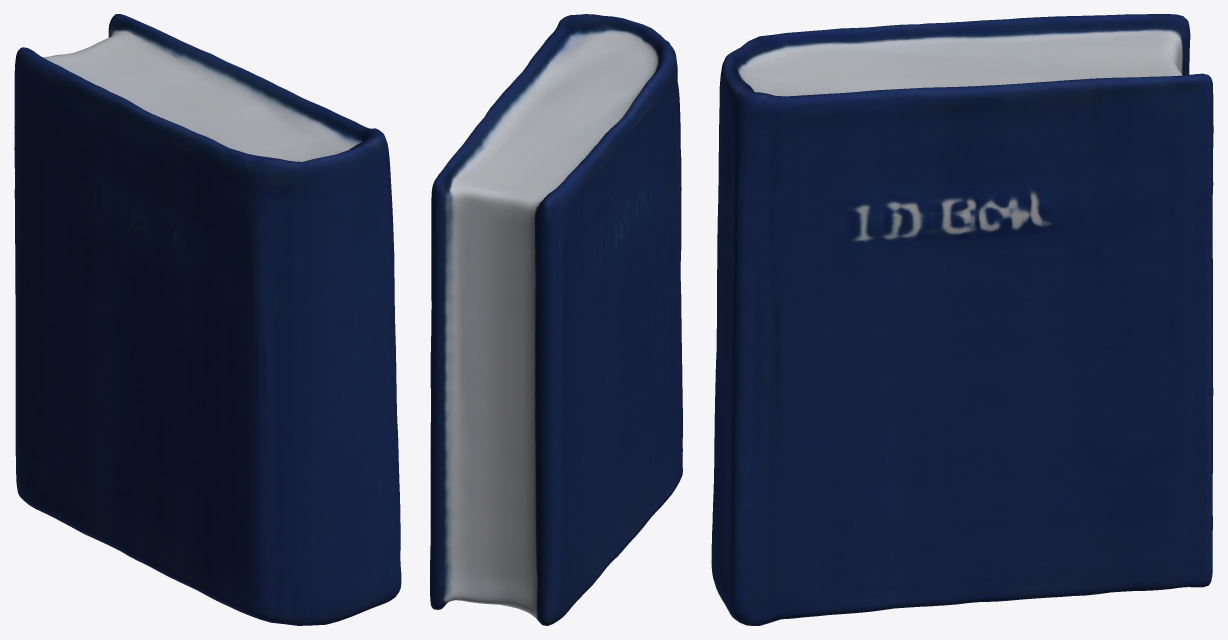
File: 26efe47cc652_blue_book__3d_asset.fbx
3 renders of one model, left to right at view 1: azimuth 30°, elevation 25°; view 2: azimuth 150°, elevation 25°; view 3: azimuth 270°, elevation 25°, orthographic. The views are drawn at different scales.
Parts seen in each view (by area): view 1: mesh; view 2: mesh; view 3: mesh.
Boxes of the visible parts, x1=… form: mesh: x1=14, y1=14, x2=401, y2=625; mesh: x1=430, y1=14, x2=682, y2=625; mesh: x1=711, y1=14, x2=1213, y2=625.
Size of the model in its own units: 42.44 by 99.66 by 85.65.
